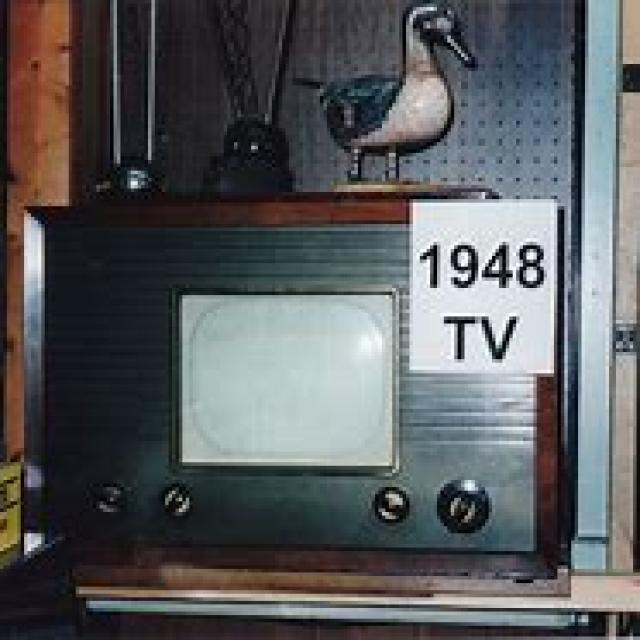tv: (21, 192, 571, 597)
